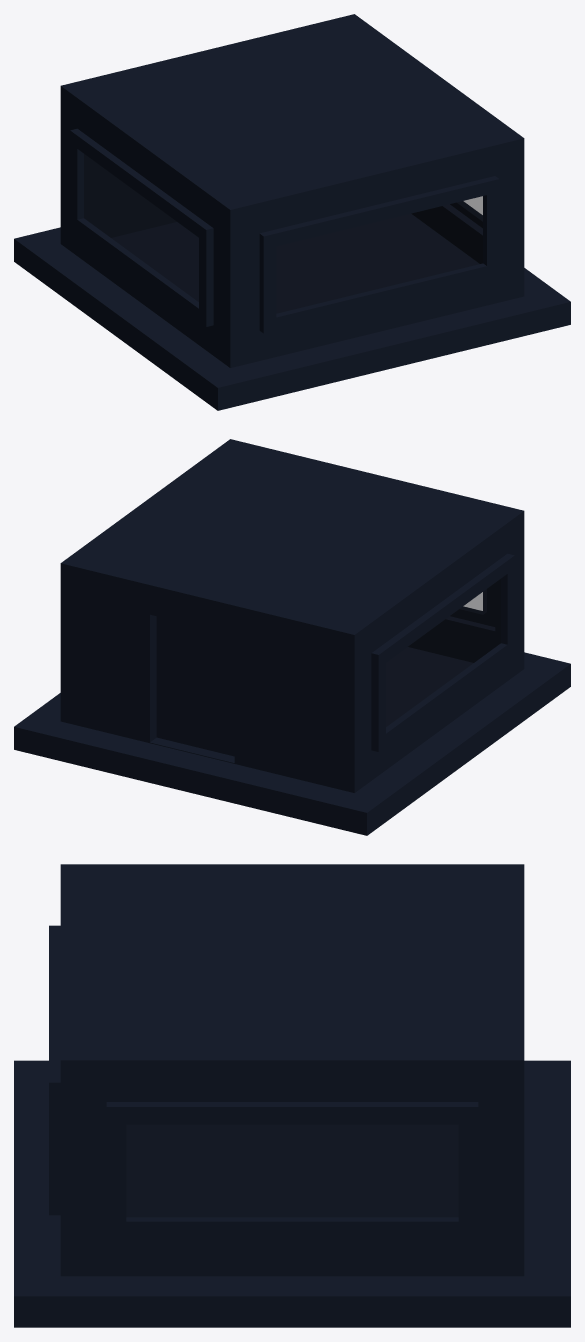
The picture shows the model from 3 angles, top to bottom: view 1: azimuth 30°, elevation 25°; view 2: azimuth 150°, elevation 25°; view 3: azimuth 270°, elevation 25°; orthographic projection. The views are drawn at different scales.
Visible parts, largest first — view 1: Cube; view 2: Cube; view 3: Cube.
Part boxes in pixels (<box>): Cube: <box>14,14,570,410</box>; Cube: <box>14,439,570,835</box>; Cube: <box>14,864,570,1327</box>.
Size of the model in its own units: 368 by 180 by 368.
